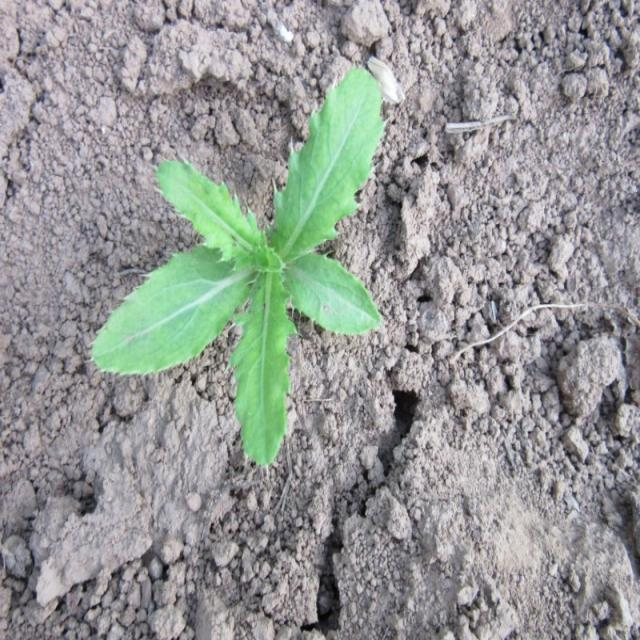cs: (86, 64, 387, 475)
